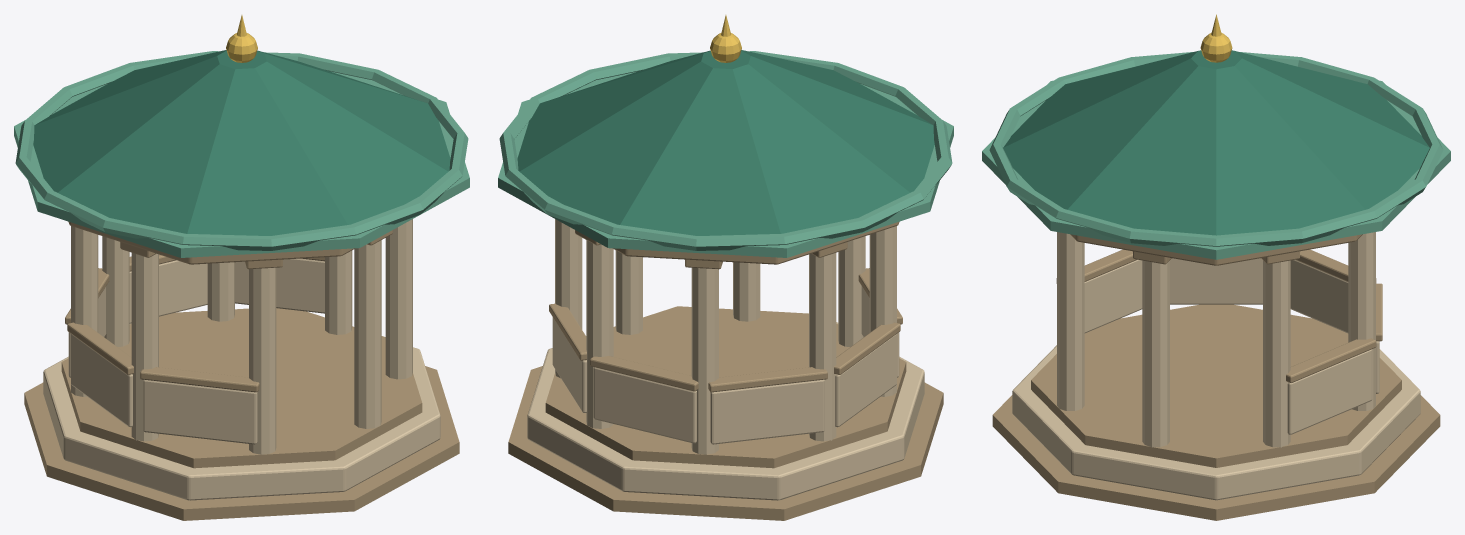
Rendered from SM_KurparkPavillon.glb.
3 views of the same model, side by side, from view 1: azimuth 30°, elevation 25°; view 2: azimuth 150°, elevation 25°; view 3: azimuth 270°, elevation 25° (orthographic).
Parts seen in each view (by area): view 1: SM_KurparkPavillon; view 2: SM_KurparkPavillon; view 3: SM_KurparkPavillon.
Part boxes in pixels (x1,y1,x2,y2): SM_KurparkPavillon: [14, 15, 469, 520]; SM_KurparkPavillon: [498, 15, 953, 520]; SM_KurparkPavillon: [982, 14, 1450, 520].
Size of what is drawn, in the model's own units: 4.4 by 4.27 by 4.4.
